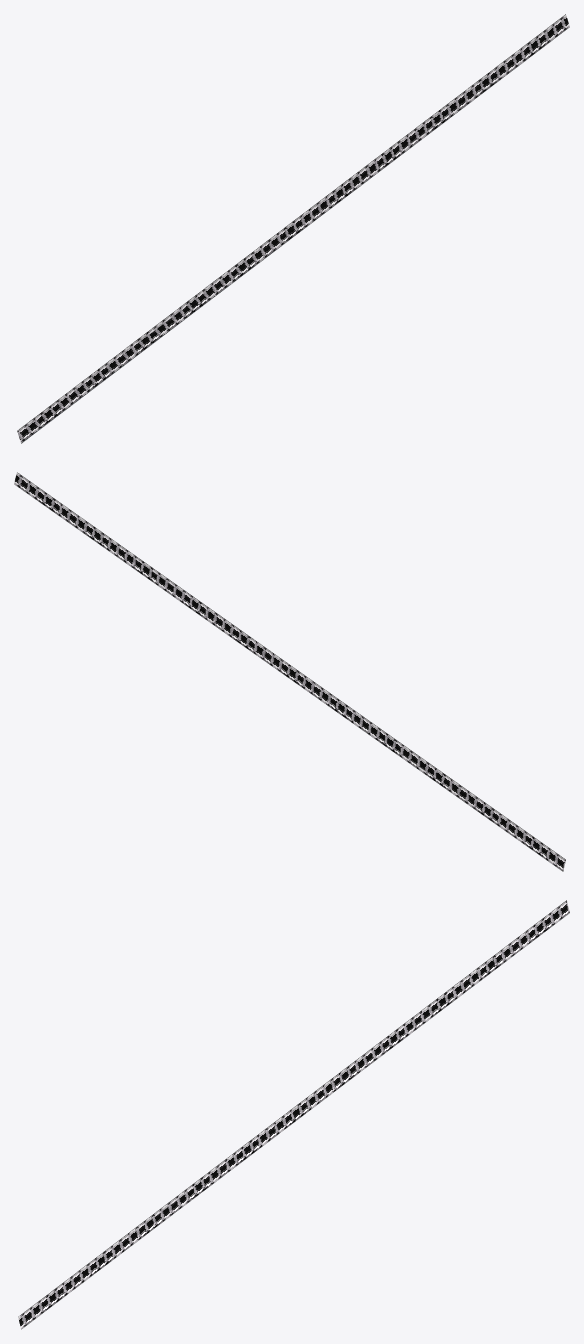
3 renders of one model, top to bottom at view 1: azimuth 90°, elevation 25°; view 2: azimuth 150°, elevation 25°; view 3: azimuth 270°, elevation 25°, orthographic. The views are drawn at different scales.
Visible parts, largest first — view 1: Cylinder18; view 2: Cylinder18; view 3: Cylinder18.
Boxes of the visible parts, x1,y1,x2,y2 form: Cylinder18: [17, 14, 569, 443]; Cylinder18: [14, 472, 565, 871]; Cylinder18: [18, 900, 569, 1329].
Bounding box in the file's own units: 485 × 6.54 × 272.
1 material, 1 textured.
